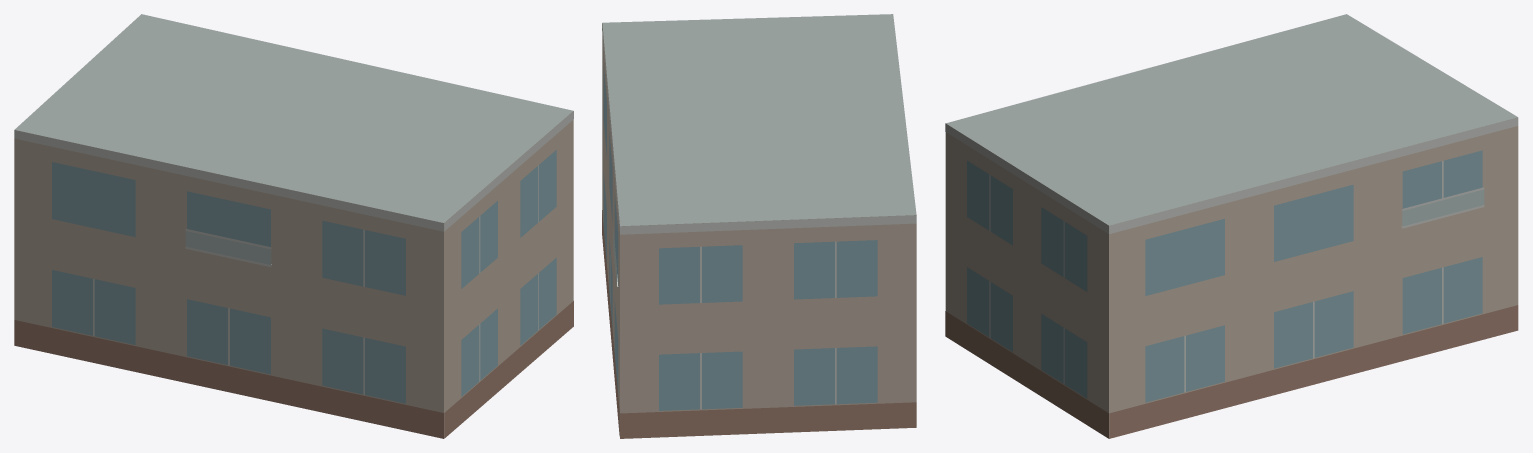
Rendered from survey-upis-32624859.glb.
3 views of the same model, side by side, from view 1: azimuth 30°, elevation 25°; view 2: azimuth 150°, elevation 25°; view 3: azimuth 270°, elevation 25° (orthographic).
Parts seen in each view (by area): view 1: survey-upis-32624859.tmp; view 2: survey-upis-32624859.tmp; view 3: survey-upis-32624859.tmp.
Boxes of the visible parts, x1,y1,x2,y2 form: survey-upis-32624859.tmp: (14,14,573,438); survey-upis-32624859.tmp: (602,14,916,438); survey-upis-32624859.tmp: (945,14,1518,438).
Size of the model in its own units: 13 by 6.1 by 14.86.
